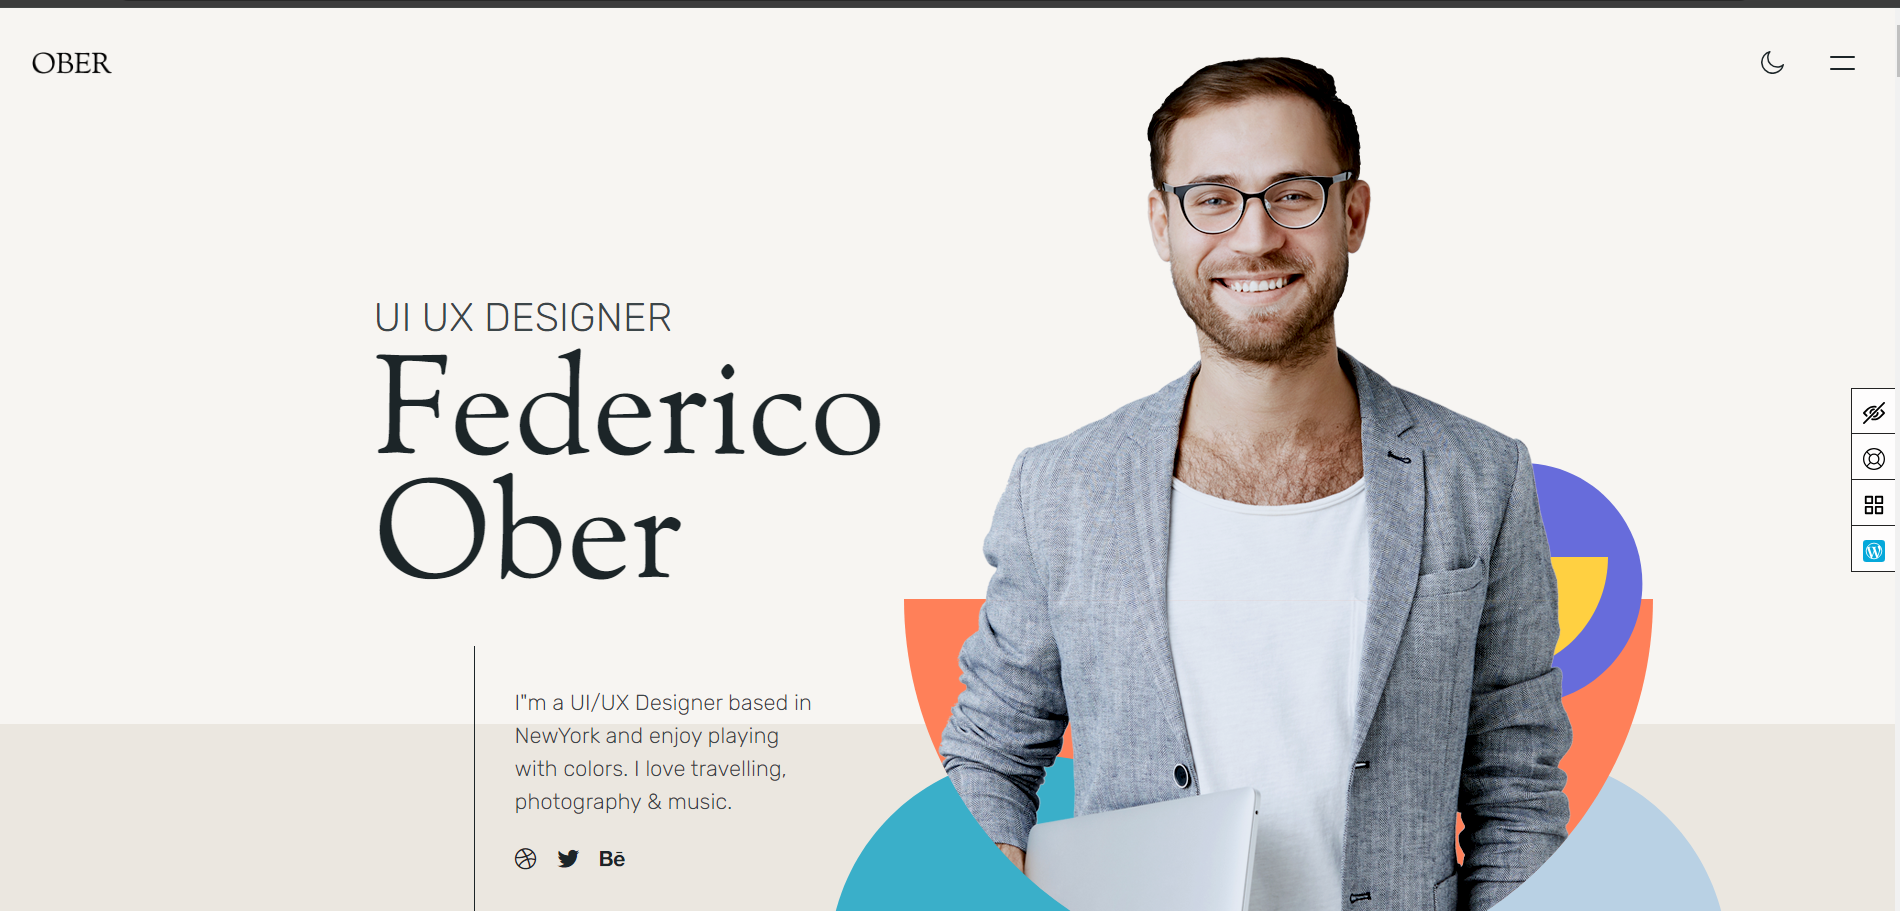menu-icon: (1719, 21, 1900, 882)
